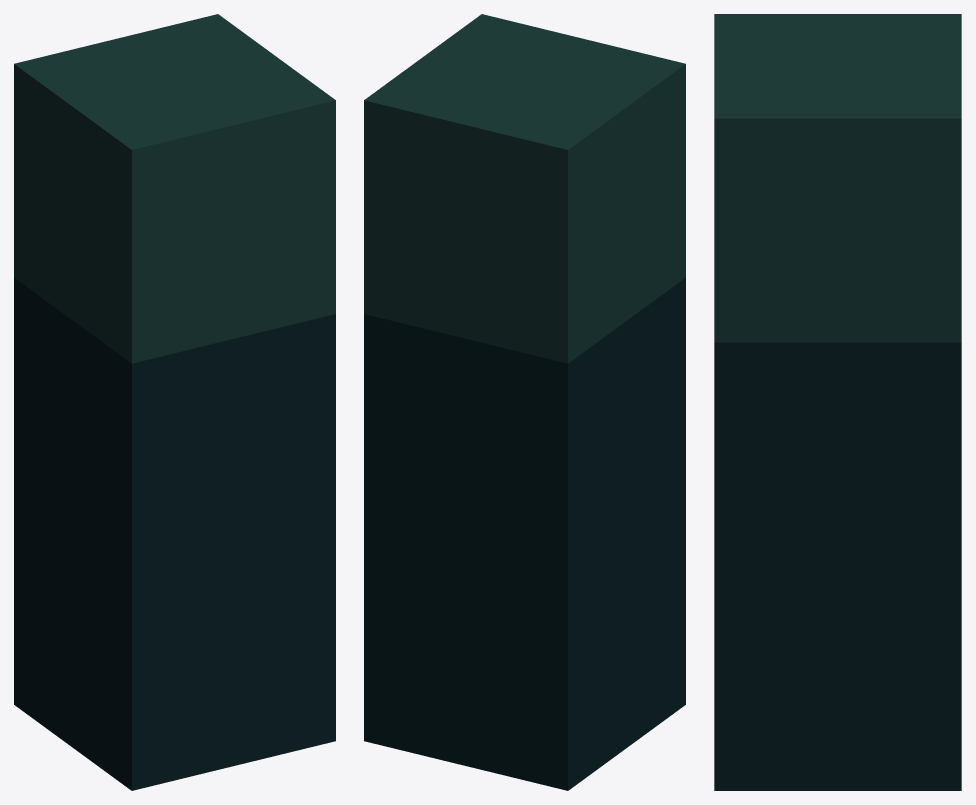
The model's file is Grass_1.glb.
The picture shows the model from 3 angles, left to right: view 1: azimuth 30°, elevation 25°; view 2: azimuth 150°, elevation 25°; view 3: azimuth 270°, elevation 25°; orthographic projection. The views are drawn at different scales.
Parts seen in each view (by area): view 1: Grass_1; view 2: Grass_1; view 3: Grass_1.
Boxes of the visible parts, x1=… form: Grass_1: x1=14, y1=14, x2=335, y2=790; Grass_1: x1=364, y1=14, x2=685, y2=790; Grass_1: x1=714, y1=14, x2=961, y2=790.
Bounding box in the file's own units: 0.025 × 0.075 × 0.025.
